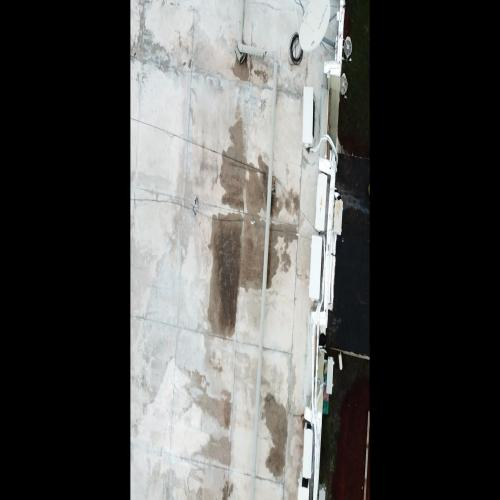conde: (308, 233, 325, 307), (302, 83, 318, 155), (313, 170, 330, 235), (303, 402, 315, 483), (297, 467, 313, 500)
